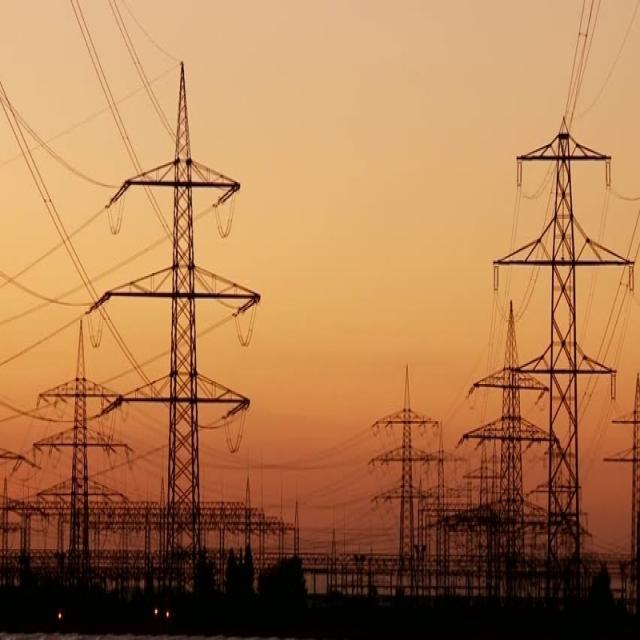non-critical vegetation: (115, 57, 246, 560), (514, 92, 614, 574), (48, 340, 110, 555), (380, 385, 430, 586)
